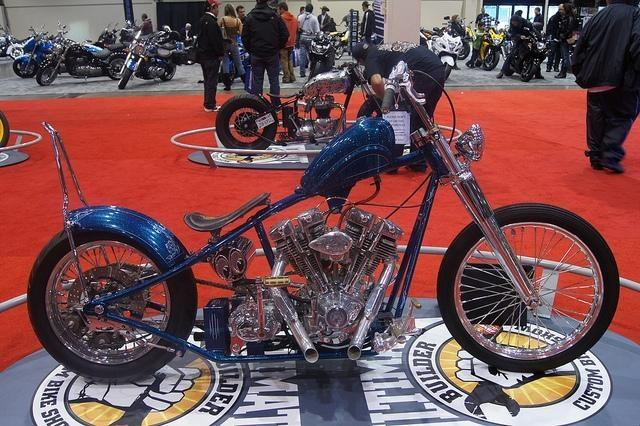motorcycle: (27, 59, 620, 383), (3, 21, 508, 86), (214, 60, 382, 156), (116, 18, 182, 90), (518, 34, 556, 80), (218, 39, 250, 86), (328, 32, 346, 60), (458, 29, 474, 60), (184, 35, 198, 65)
